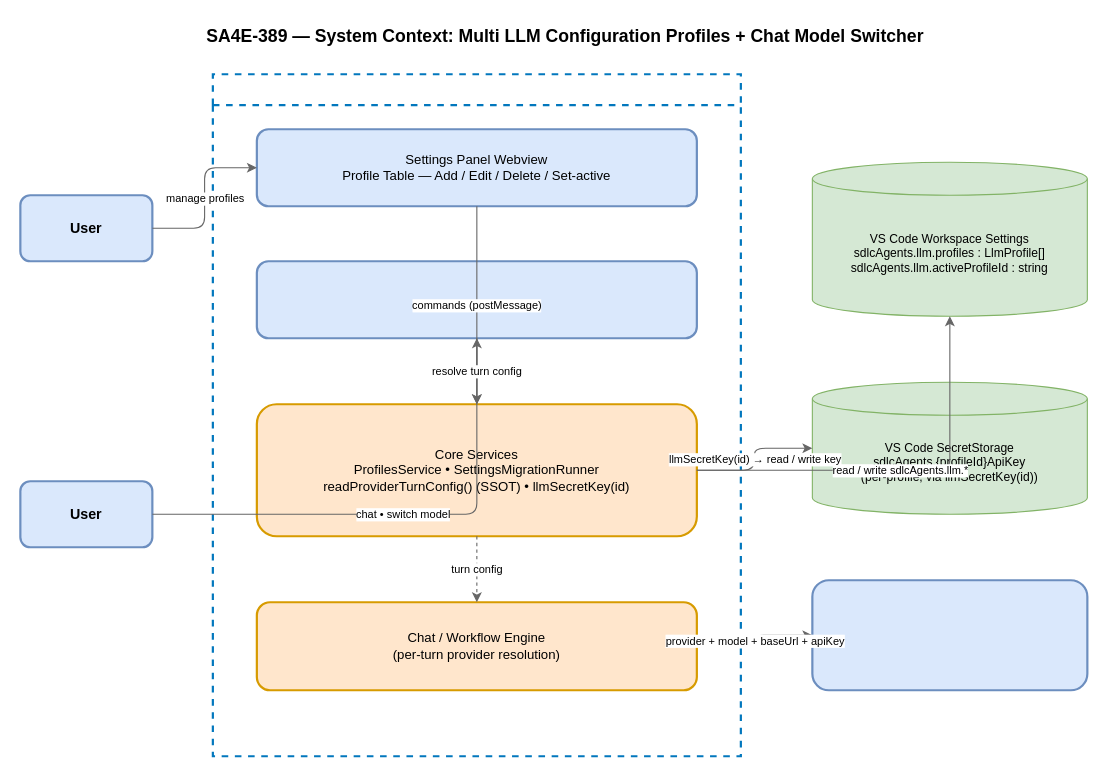
The diagram is 1107 pixels wide and 776 high, and some of its shapes have lost their labels. Each missing label, with the box of its shape:
Chat Webview Model Picker (grouped by provider): (255, 260, 697, 339)
LLM Providers anthropic • openai • lmstudio openrouter • ollama: (811, 579, 1088, 691)
SDLC Agents — VS Code Extension: (211, 73, 741, 757)
